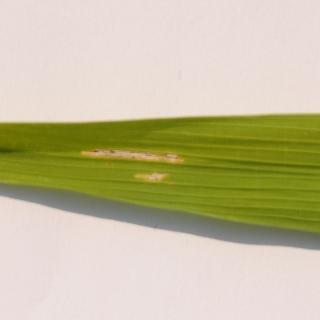Hawar-Daun: (77, 140, 189, 173), (132, 168, 170, 190)
